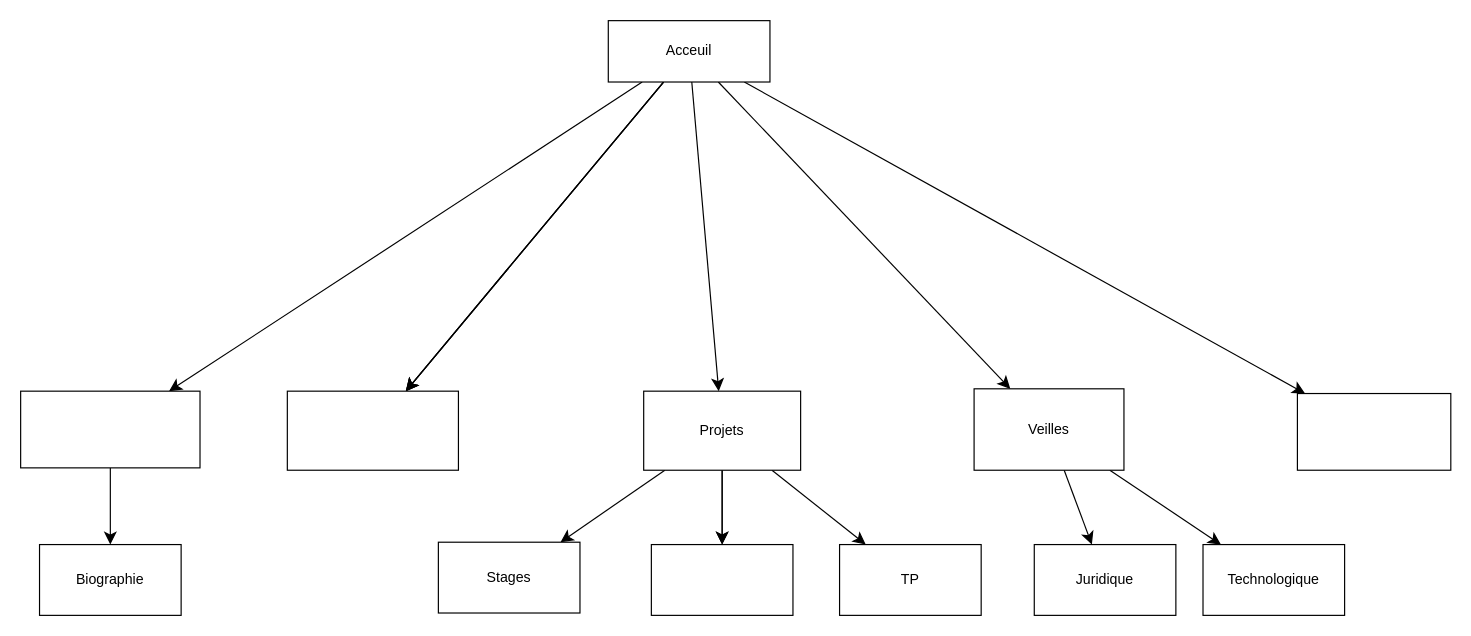
The diagram is 1471 pixels wide and 636 high, and some of its shapes have lost their labels. The box of each missing label's shape, as (x1, y1, x2, y2) in pixels:
Atelier Pro: (650, 543, 793, 615)
Contact: (1296, 392, 1451, 470)
CV & Lettre de motivation: (286, 390, 458, 470)
À propos: (19, 390, 200, 468)
